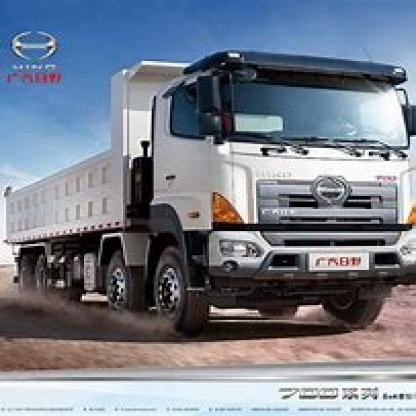dump_truck: (8, 41, 414, 329)
